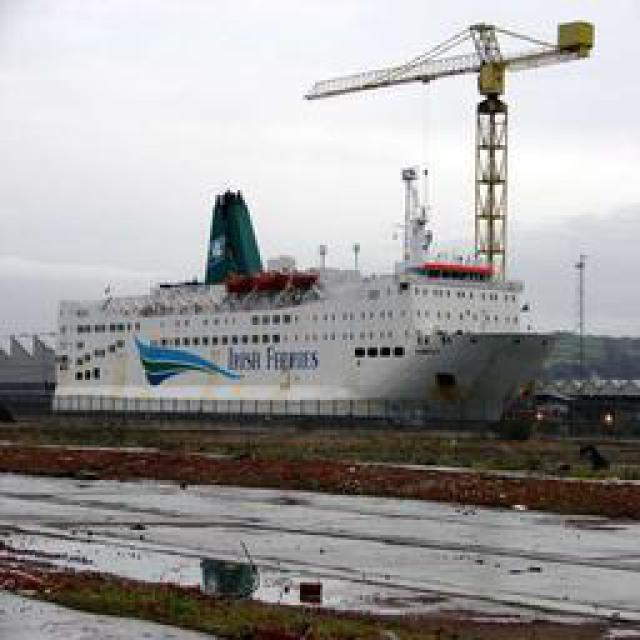Ship: (43, 165, 574, 442)
